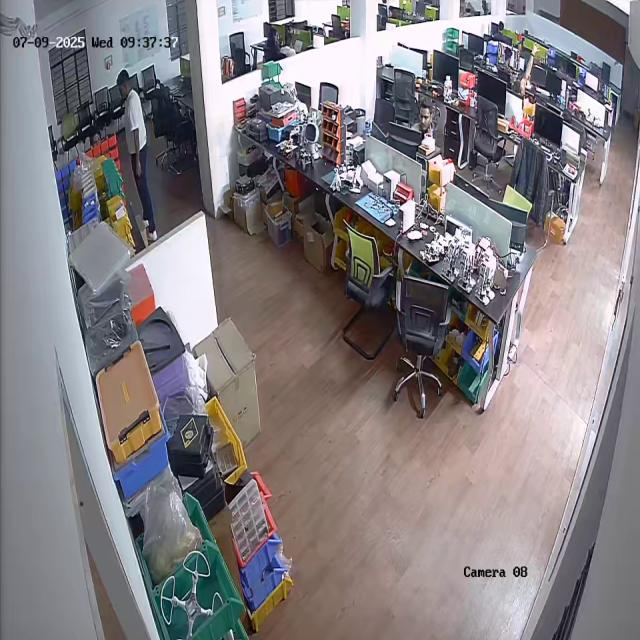person: (114, 68, 160, 243)
